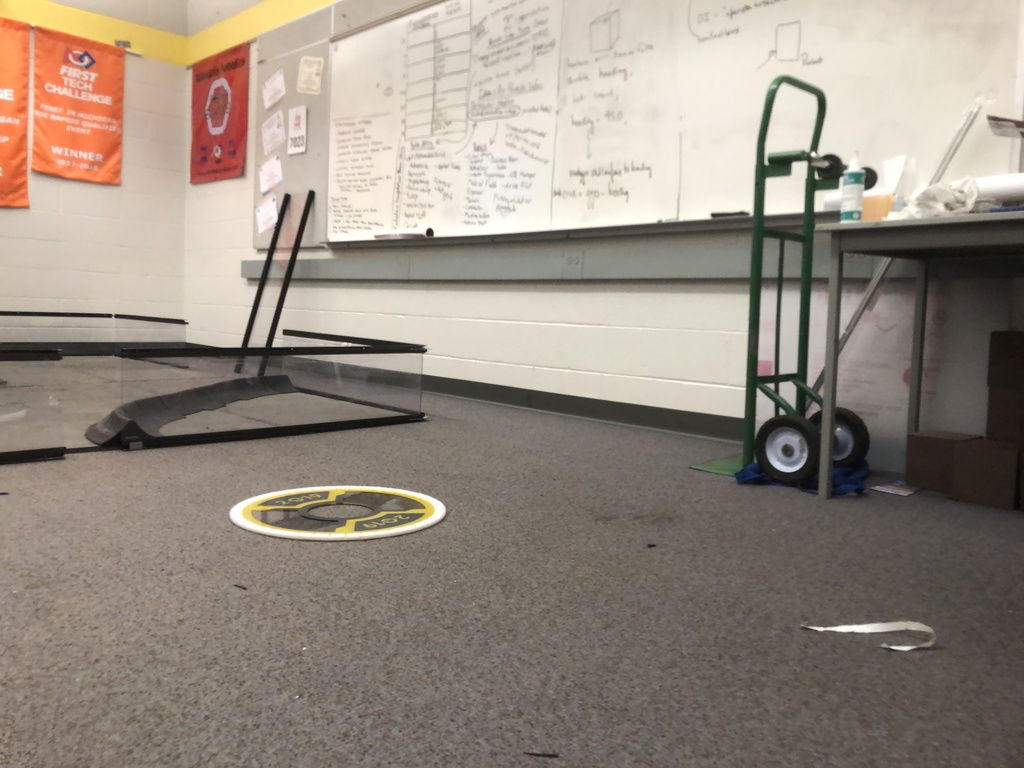hatch_panel: (222, 475, 467, 552)
